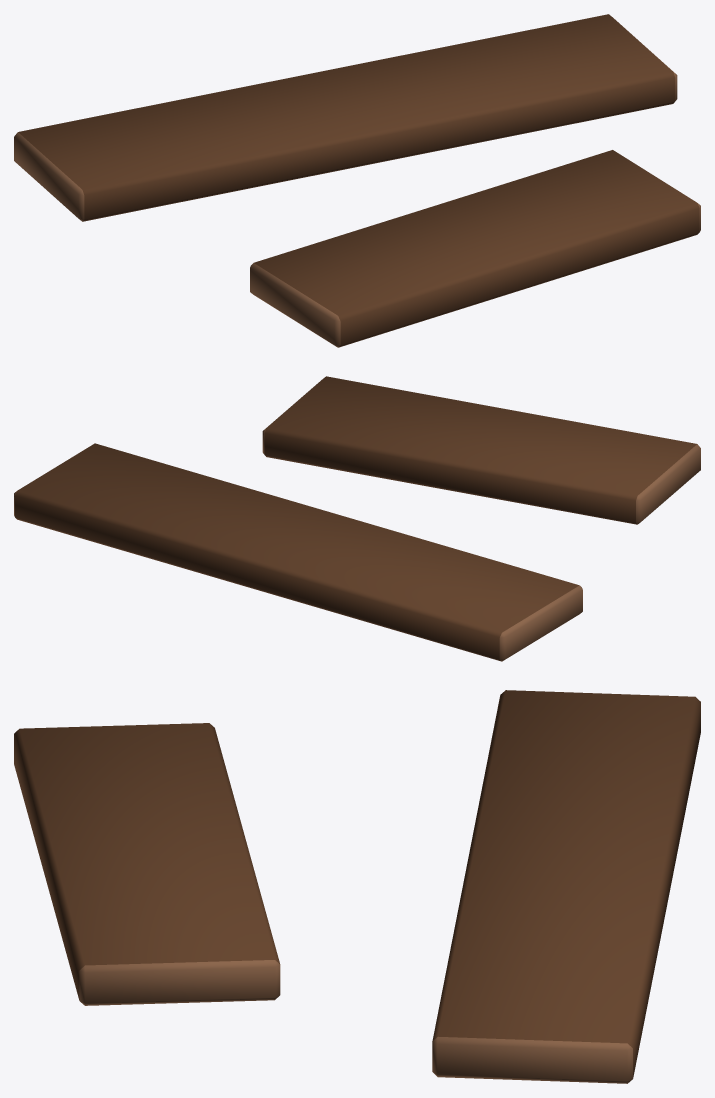
Rendered from WoodenPavement_3.fbx.
The picture shows the model from 3 angles, top to bottom: view 1: azimuth 30°, elevation 25°; view 2: azimuth 150°, elevation 25°; view 3: azimuth 270°, elevation 25°; orthographic projection. The views are drawn at different scales.
Parts seen in each view (by area): view 1: WoodenPavement_3; view 2: WoodenPavement_3; view 3: WoodenPavement_3.
Boxes of the visible parts, x1,y1,x2,y2 form: WoodenPavement_3: [14, 14, 700, 347]; WoodenPavement_3: [14, 376, 700, 661]; WoodenPavement_3: [14, 690, 700, 1083].
Bounding box in the file's own units: 76.2 × 4.01 × 61.81.
